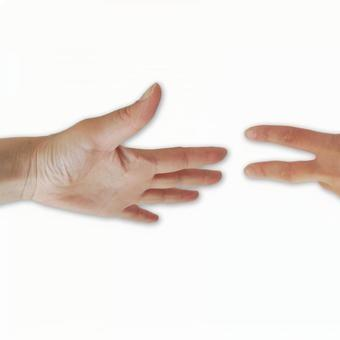pa-: (38, 80, 229, 224)
